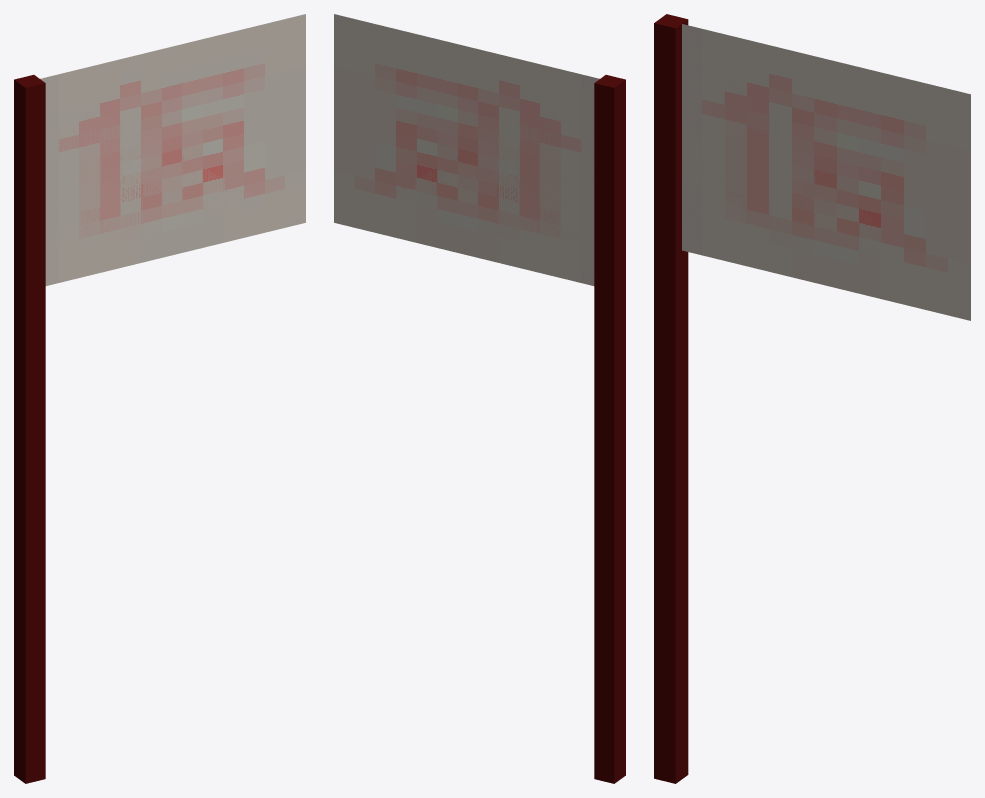
Rendered from objects_un_plan_flyflag01.gltf.
3 views of the same model, side by side, from view 1: azimuth 30°, elevation 25°; view 2: azimuth 150°, elevation 25°; view 3: azimuth 330°, elevation 25° (orthographic). The views are drawn at different scales.
Visible parts, largest first — view 1: objects_un_plan_flyflag01_mesh_shape:objects_un_plan_flyflag; view 2: objects_un_plan_flyflag01_mesh_shape:objects_un_plan_flyflag; view 3: objects_un_plan_flyflag01_mesh_shape:objects_un_plan_flyflag.
Part boxes in pixels (x1,y1,x2,y2): objects_un_plan_flyflag01_mesh_shape:objects_un_plan_flyflag: [14, 14, 305, 783]; objects_un_plan_flyflag01_mesh_shape:objects_un_plan_flyflag: [334, 14, 625, 783]; objects_un_plan_flyflag01_mesh_shape:objects_un_plan_flyflag: [654, 14, 970, 783].
Bounding box in the file's own units: 0.43 × 1 × 0.03.
1 material, 1 textured.
